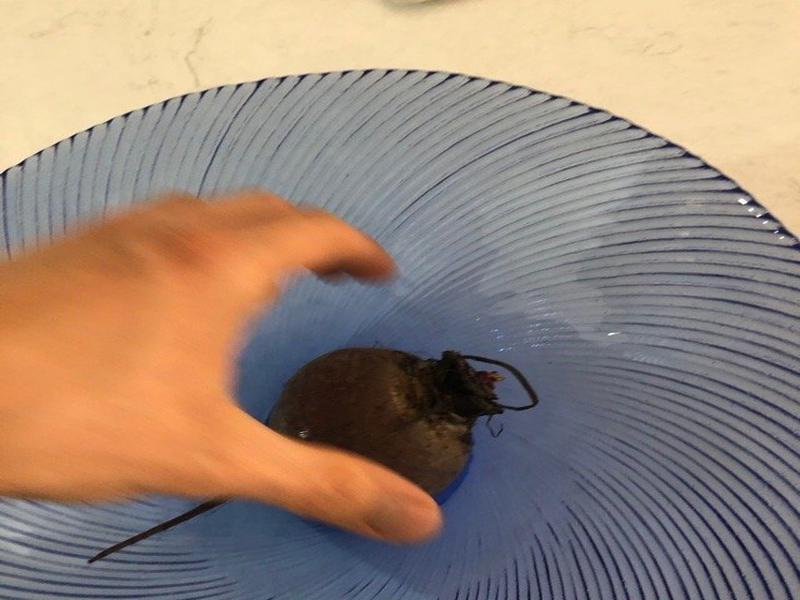Beet: (89, 346, 538, 562)
